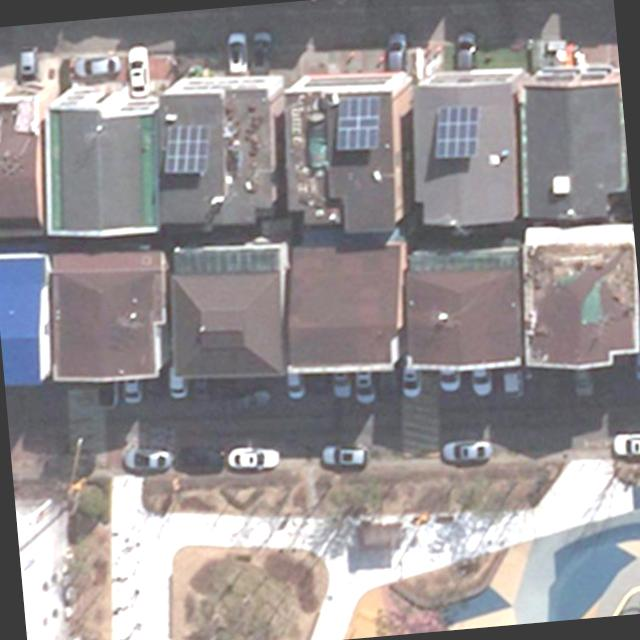solar: (330, 91, 386, 156), (426, 100, 484, 162), (156, 119, 214, 179)
